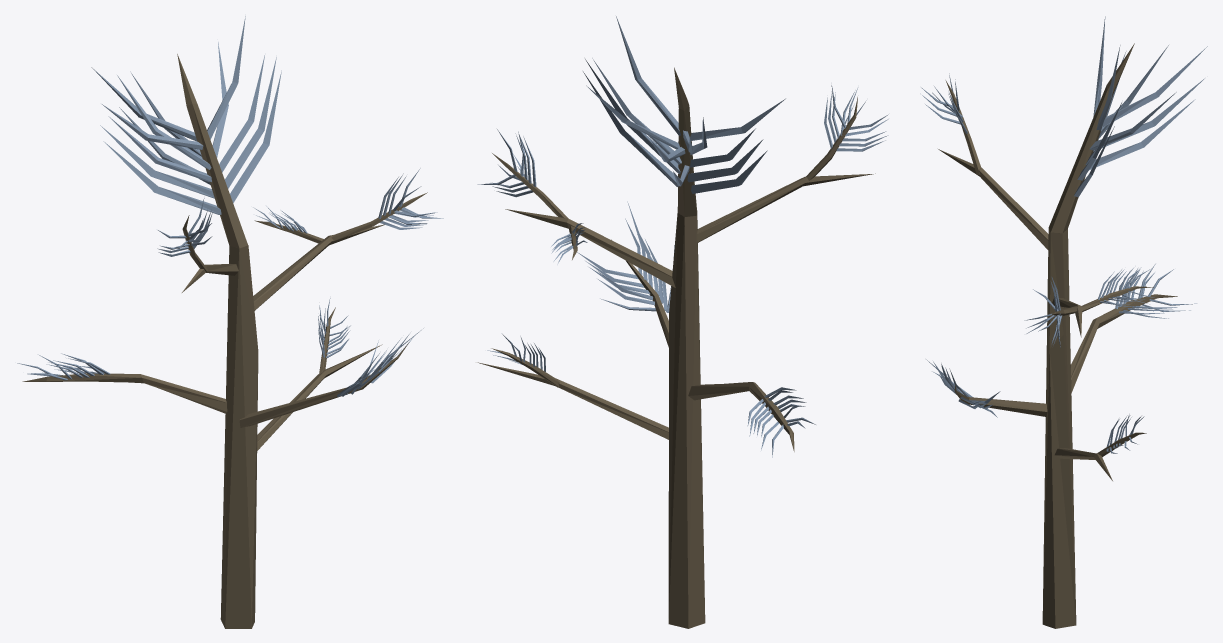
The model's file is Blue_Spruce_3_1.fbx.
3 renders of one model, left to right at view 1: azimuth 30°, elevation 25°; view 2: azimuth 150°, elevation 25°; view 3: azimuth 270°, elevation 25°, orthographic. The views are drawn at different scales.
Visible parts, largest first — view 1: Spurce_3_1; view 2: Spurce_3_1; view 3: Spurce_3_1.
Part boxes in pixels (x1=…): Spurce_3_1: x1=17, y1=16, x2=443, y2=628; Spurce_3_1: x1=477, y1=16, x2=888, y2=628; Spurce_3_1: x1=920, y1=16, x2=1207, y2=628.
Size of the model in its own units: 193 by 292 by 128.
